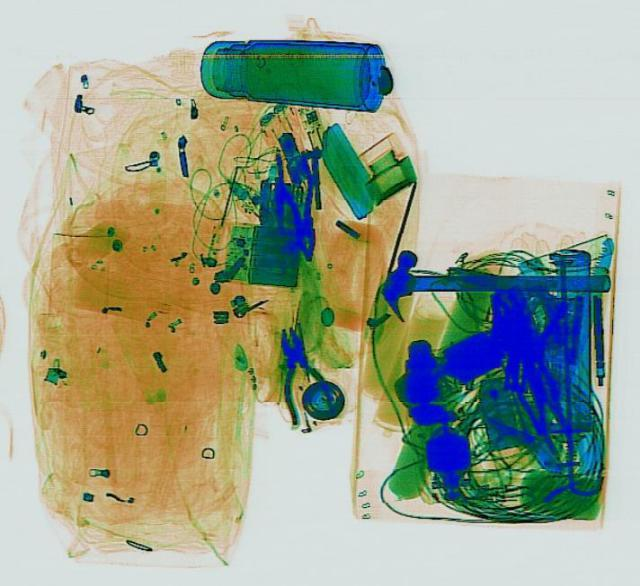Pliers: (262, 321, 336, 427), (266, 149, 332, 264)
